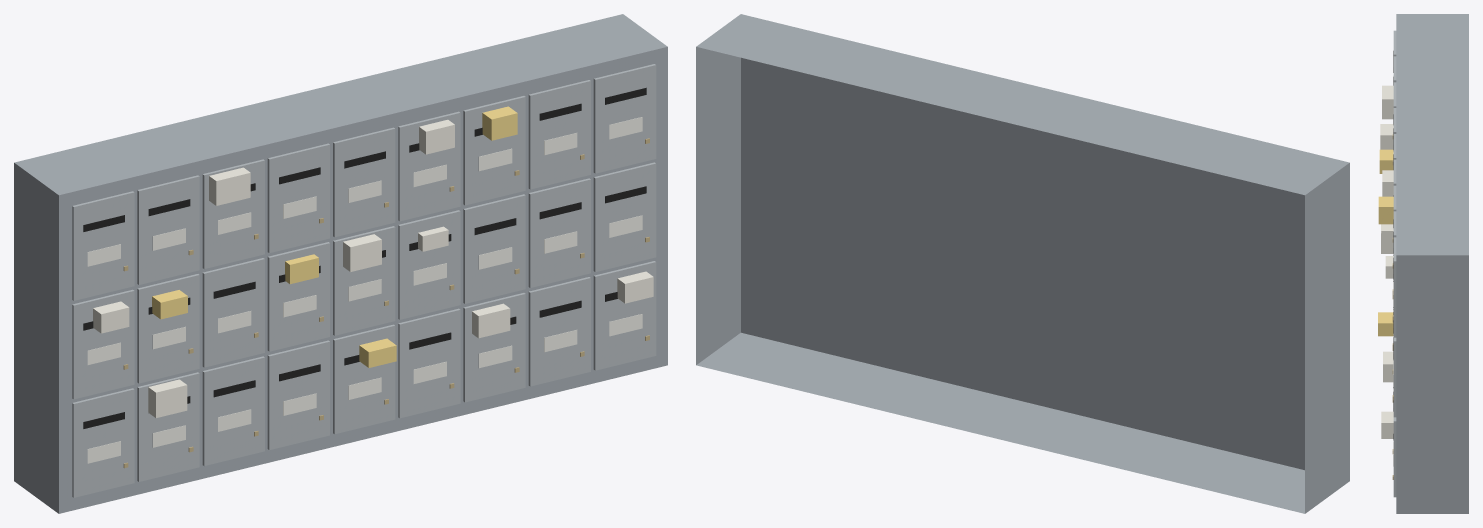
File: Mailboxes.fbx
3 views of the same model, side by side, from view 1: azimuth 30°, elevation 25°; view 2: azimuth 150°, elevation 25°; view 3: azimuth 270°, elevation 25° (orthographic). The views are drawn at different scales.
Visible parts, largest first — view 1: Mailboxes; view 2: Mailboxes; view 3: Mailboxes.
Part boxes in pixels (x1,y1,x2,y2): Mailboxes: (14,14,667,513); Mailboxes: (696,14,1349,513); Mailboxes: (1378,14,1468,513).
Size of the model in its own units: 2.2 by 1.1 by 0.3499.
